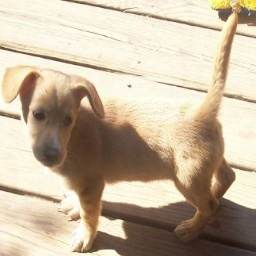dog: (2, 35, 240, 254)
